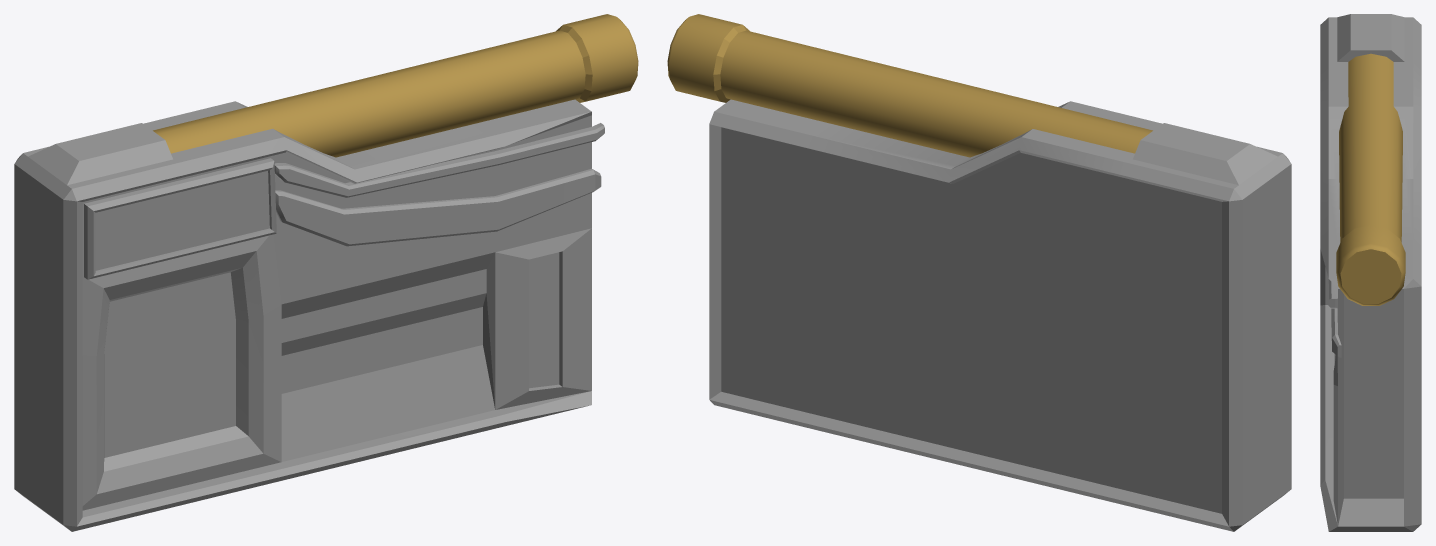
File: MementoMoriBaseBomb.fbx
3 views of the same model, side by side, from view 1: azimuth 30°, elevation 25°; view 2: azimuth 150°, elevation 25°; view 3: azimuth 270°, elevation 25° (orthographic). The views are drawn at different scales.
Parts seen in each view (by area): view 1: MementoMori, PipeBomb; view 2: MementoMori, PipeBomb; view 3: MementoMori, PipeBomb.
Part boxes in pixels (<box>): MementoMori: <box>14,99,604,531</box>; PipeBomb: <box>153,14,638,157</box>; MementoMori: <box>709,99,1291,531</box>; PipeBomb: <box>667,14,1152,157</box>; MementoMori: <box>1320,14,1421,531</box>; PipeBomb: <box>1336,53,1405,305</box>.
Bounding box in the file's own units: 23.66 × 13.93 × 4.14.
